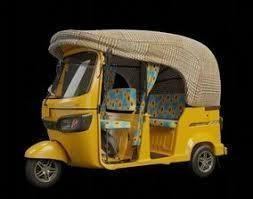keke: (29, 29, 231, 187), (31, 39, 230, 198)
